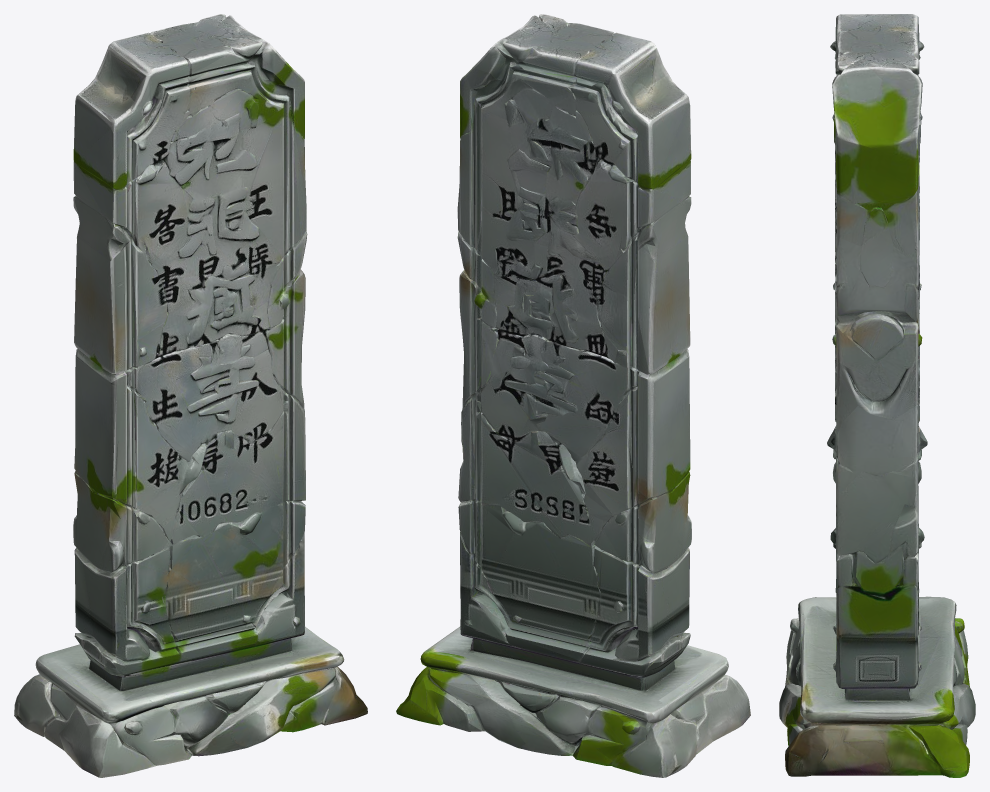
Rendered from shibei.glb.
The picture shows the model from 3 angles, left to right: view 1: azimuth 30°, elevation 25°; view 2: azimuth 150°, elevation 25°; view 3: azimuth 270°, elevation 25°; orthographic projection.
Bounding box in the file's own units: 0.8138 × 1.9 × 0.5045.
Materials: 1 (1 with a texture image).
